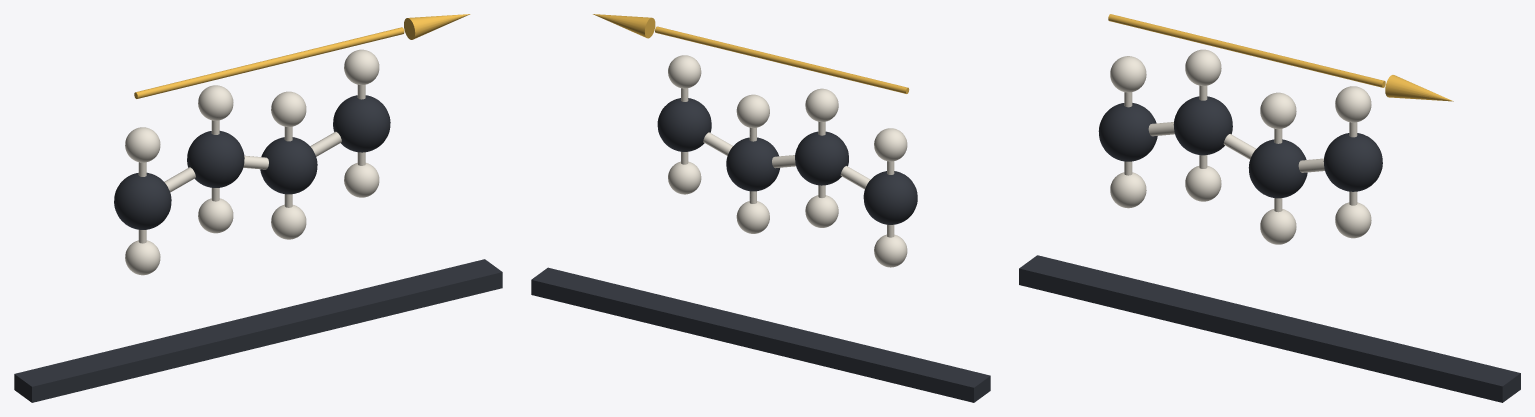
File: chem-p1-hydrocarbon.glb
3 renders of one model, left to right at view 1: azimuth 30°, elevation 25°; view 2: azimuth 150°, elevation 25°; view 3: azimuth 330°, elevation 25°, orthographic. The views are drawn at different scales.
Parts seen in each view (by area): view 1: organic-chemistry-bench-reference-base, hydrocarbon-chain-carbon-0, hydrocarbon-chain-carbon-3, hydrocarbon-chain-carbon-1, hydrocarbon-chain-carbon-2, carbon-hydrogen-only-composition-cue-shaft, hydrocarbon-hydrogen-top-0, hydrocarbon-hydrogen-top-1, hydrocarbon-hydrogen-top-2, hydrocarbon-hydrogen-top-3, hydrocarbon-hydrogen-bottom-2, hydrocarbon-hydrogen-bottom-0 (+3 smaller); view 2: organic-chemistry-bench-reference-base, hydrocarbon-chain-carbon-0, hydrocarbon-chain-carbon-3, hydrocarbon-chain-carbon-1, hydrocarbon-chain-carbon-2, carbon-hydrogen-only-composition-cue-shaft, hydrocarbon-hydrogen-top-1, hydrocarbon-hydrogen-top-0, hydrocarbon-hydrogen-top-3, hydrocarbon-hydrogen-top-2, hydrocarbon-hydrogen-bottom-1, hydrocarbon-hydrogen-bottom-0 (+3 smaller); view 3: organic-chemistry-bench-reference-base, hydrocarbon-chain-carbon-3, hydrocarbon-chain-carbon-1, hydrocarbon-chain-carbon-2, hydrocarbon-chain-carbon-0, carbon-hydrogen-only-composition-cue-shaft, hydrocarbon-hydrogen-top-2, hydrocarbon-hydrogen-top-0, hydrocarbon-hydrogen-top-1, hydrocarbon-hydrogen-top-3, hydrocarbon-hydrogen-bottom-0, hydrocarbon-hydrogen-bottom-3 (+3 smaller).
Part boxes in pixels (<box>): organic-chemistry-bench-reference-base: <box>14,259,502,402</box>; hydrocarbon-chain-carbon-0: <box>114,172,171,229</box>; hydrocarbon-chain-carbon-3: <box>333,95,390,152</box>; hydrocarbon-chain-carbon-1: <box>187,131,244,187</box>; hydrocarbon-chain-carbon-2: <box>260,137,317,194</box>; carbon-hydrogen-only-composition-cue-shaft: <box>134,27,404,98</box>; hydrocarbon-hydrogen-top-0: <box>125,127,160,162</box>; hydrocarbon-hydrogen-top-1: <box>198,85,233,120</box>; hydrocarbon-hydrogen-top-2: <box>271,91,306,126</box>; hydrocarbon-hydrogen-top-3: <box>344,49,379,84</box>; hydrocarbon-hydrogen-bottom-2: <box>271,204,306,239</box>; hydrocarbon-hydrogen-bottom-0: <box>125,240,160,275</box>; organic-chemistry-bench-reference-base: <box>531,267,990,402</box>; hydrocarbon-chain-carbon-0: <box>863,171,917,224</box>; hydrocarbon-chain-carbon-3: <box>657,98,711,151</box>; hydrocarbon-chain-carbon-1: <box>795,131,848,185</box>; hydrocarbon-chain-carbon-2: <box>726,137,779,191</box>; carbon-hydrogen-only-composition-cue-shaft: <box>655,26,909,93</box>; hydrocarbon-hydrogen-top-1: <box>805,88,838,121</box>; hydrocarbon-hydrogen-top-0: <box>874,128,907,161</box>; hydrocarbon-hydrogen-top-3: <box>668,55,701,88</box>; hydrocarbon-hydrogen-top-2: <box>736,94,769,127</box>; hydrocarbon-hydrogen-bottom-1: <box>805,195,838,227</box>; hydrocarbon-hydrogen-bottom-0: <box>874,234,907,267</box>; organic-chemistry-bench-reference-base: <box>1019,255,1520,402</box>; hydrocarbon-chain-carbon-3: <box>1323,133,1382,191</box>; hydrocarbon-chain-carbon-1: <box>1173,96,1232,155</box>; hydrocarbon-chain-carbon-2: <box>1248,139,1307,198</box>; hydrocarbon-chain-carbon-0: <box>1098,103,1157,161</box>; carbon-hydrogen-only-composition-cue-shaft: <box>1108,14,1385,87</box>; hydrocarbon-hydrogen-top-2: <box>1260,92,1296,128</box>; hydrocarbon-hydrogen-top-0: <box>1110,56,1146,92</box>; hydrocarbon-hydrogen-top-1: <box>1185,49,1221,85</box>; hydrocarbon-hydrogen-top-3: <box>1335,86,1371,122</box>; hydrocarbon-hydrogen-bottom-0: <box>1110,172,1146,208</box>; hydrocarbon-hydrogen-bottom-3: <box>1335,202,1371,238</box>.
Size of what is drawn, in the model's own units: 2.45 by 1.49 by 0.31.
